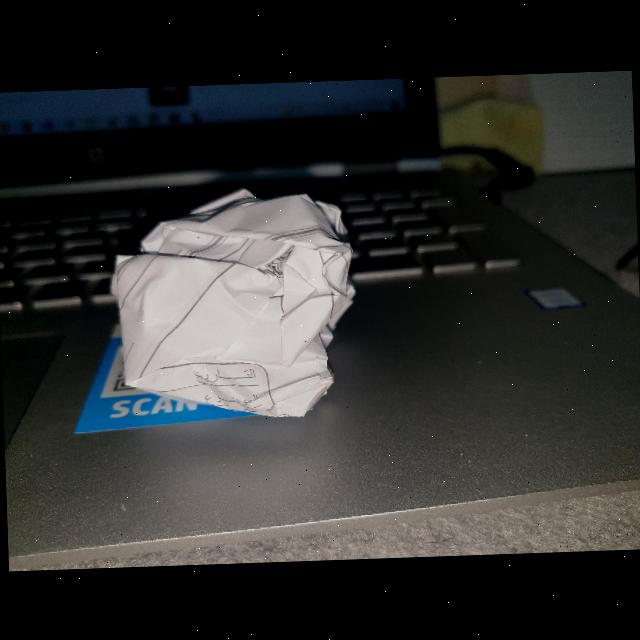trash: (102, 177, 370, 439)
